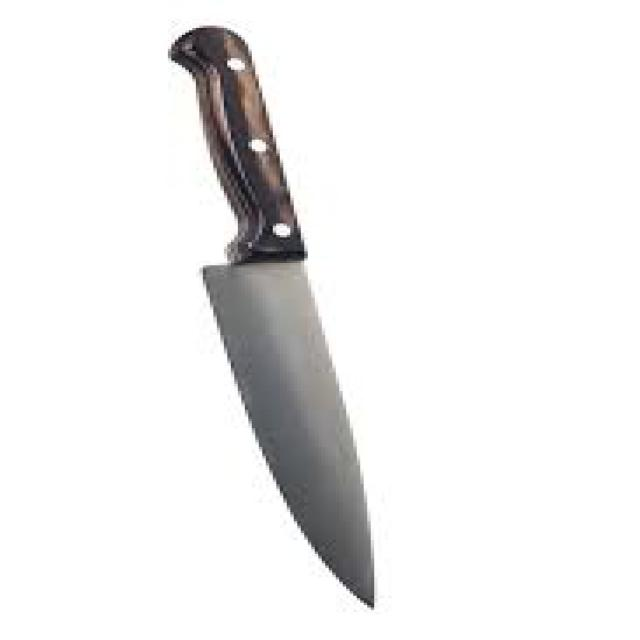Knife: (164, 24, 374, 608)
